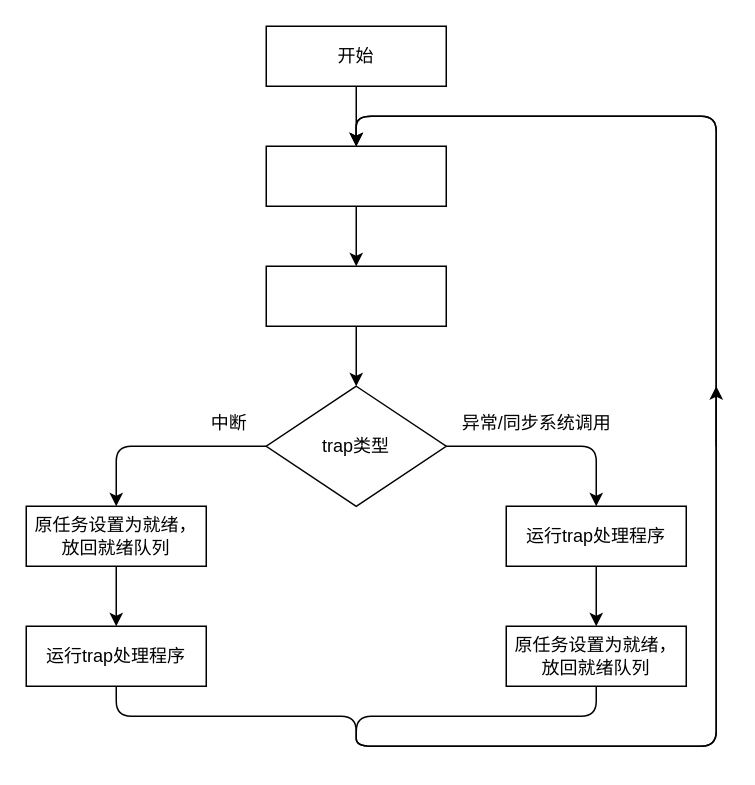
The diagram is 755 pixels wide and 785 high, and some of its shapes have lost their labels. The centre of each missing label's shape, as x and y in pixels:
"被唤醒时，由跳板传入原任务和trap参数" goes at (x=355, y=295).
"阻塞在阻塞队列上" goes at (x=355, y=175).
